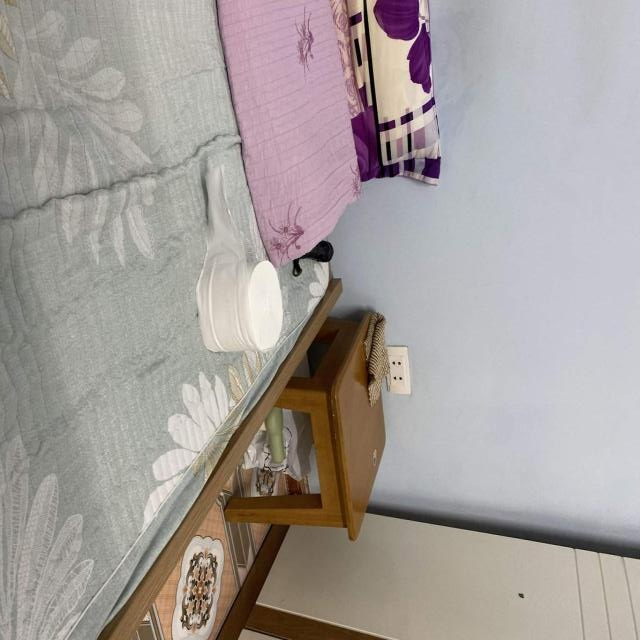outlet: (385, 345, 411, 394)
